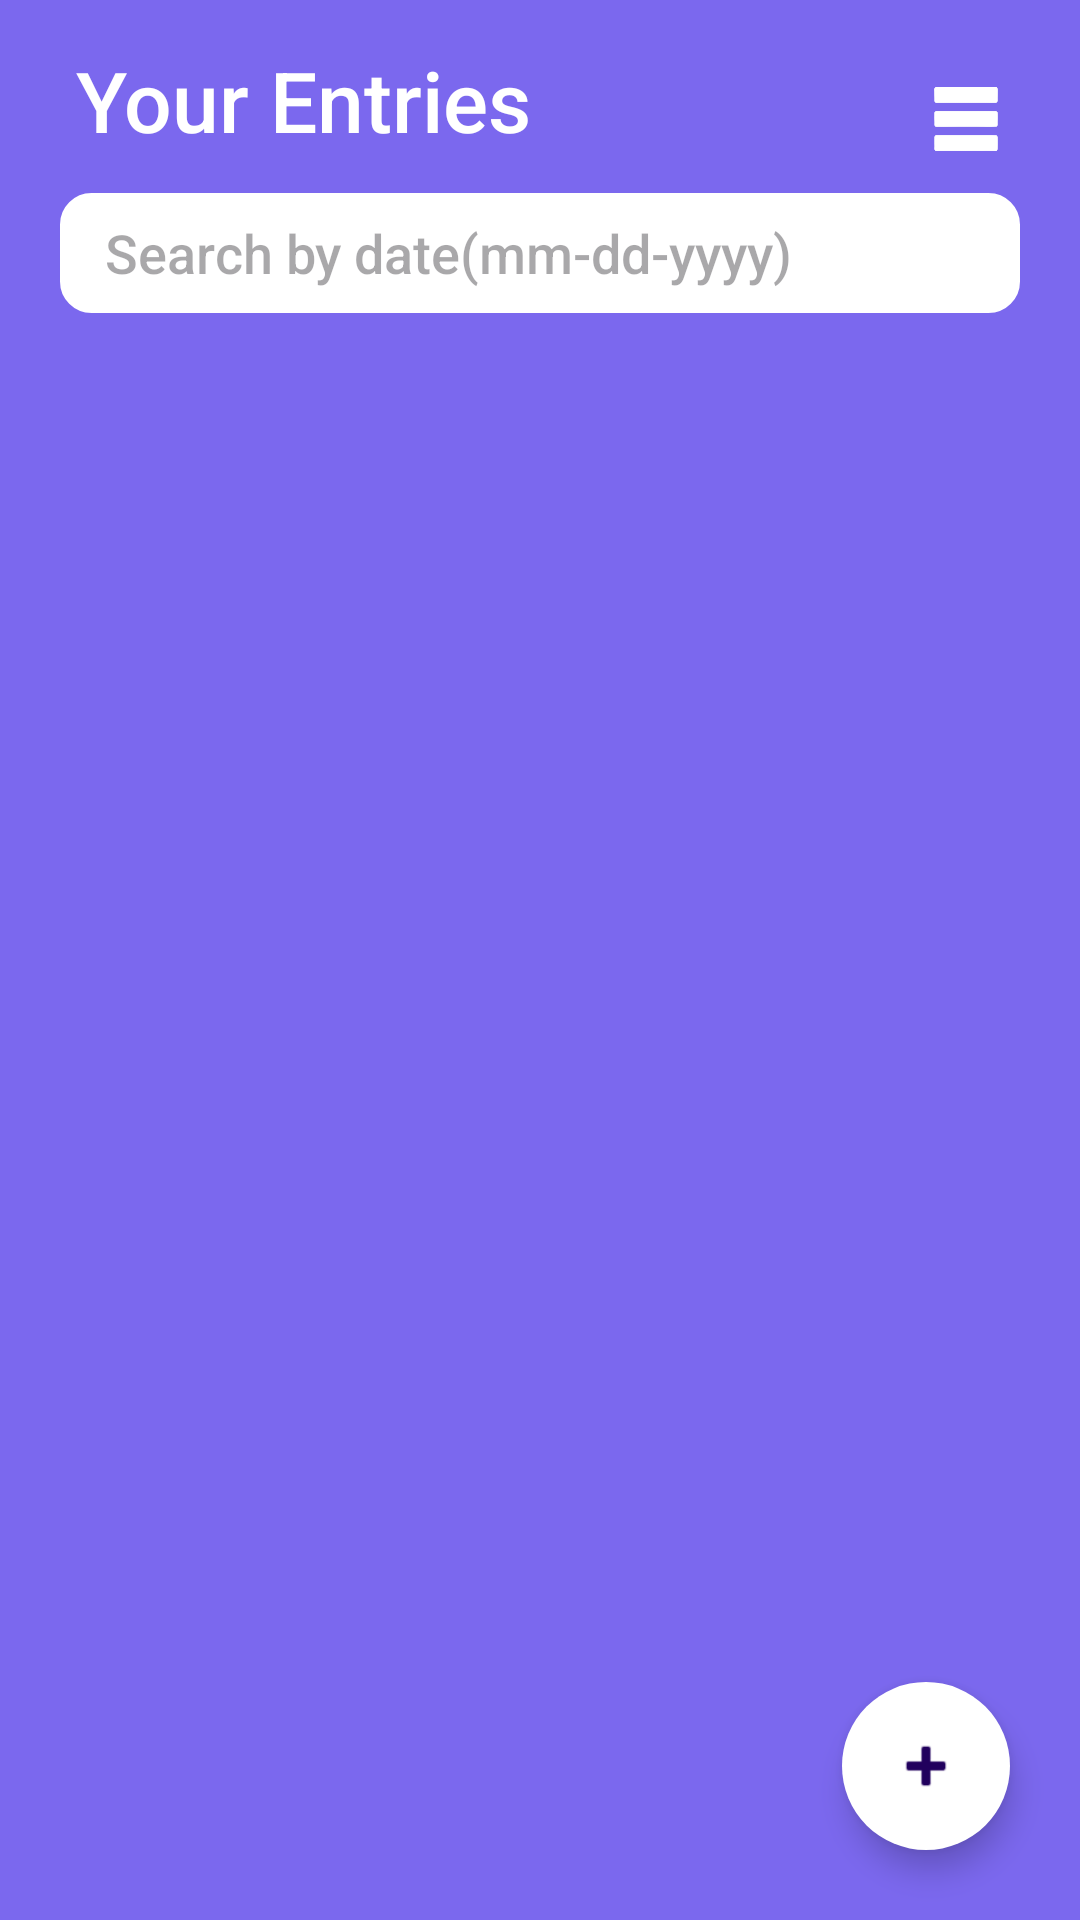

Locate icon controls on the screen. Image size 1080px x 1920px, boxes as (x1, y1, x2, y2).
add: (842, 1682, 1010, 1850)
